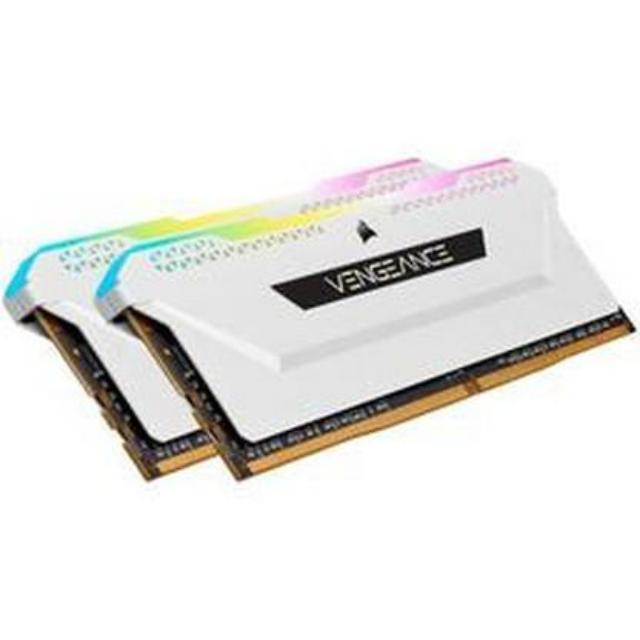RAM: (2, 146, 640, 486)
